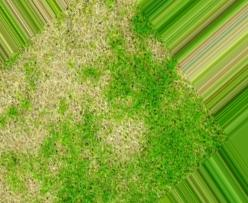patch: (28, 36, 118, 132), (2, 127, 66, 193), (89, 119, 144, 157)
